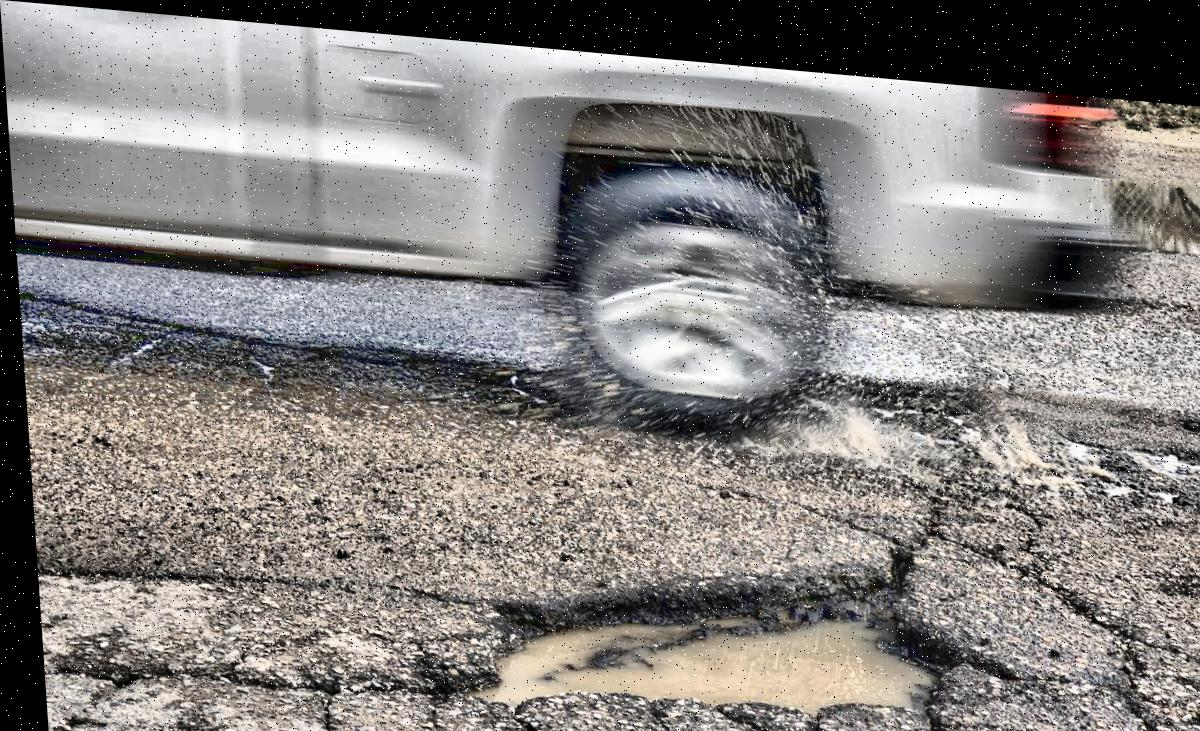pothole: (451, 508, 964, 731)
